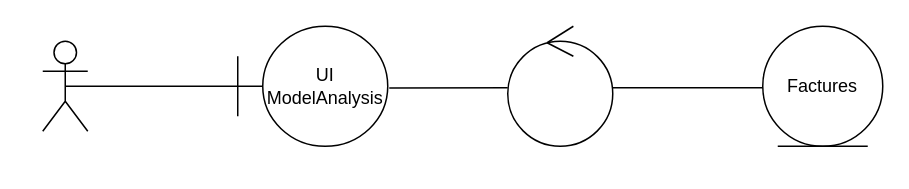
Some shapes in this 909 by 189 pixel diagram are drawn without their labels. The shapes that lost their labels are listed below. From the top down, each one's centre as x and y in pixels, then its label:
pixel 64 85: Utilisateur
pixel 559 85: Facture Controller
